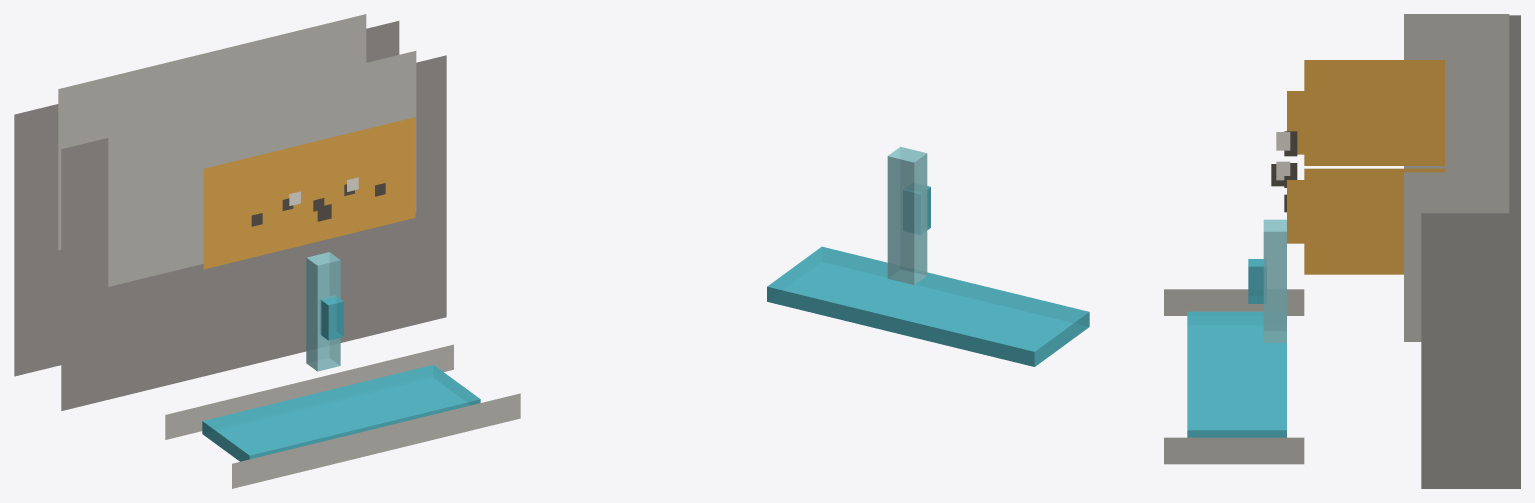
File: voxel-jinan-tiger-spring.gltf
3 views of the same model, side by side, from view 1: azimuth 30°, elevation 25°; view 2: azimuth 150°, elevation 25°; view 3: azimuth 270°, elevation 25° (orthographic). The views are drawn at different scales.
Bounding box in the file's own units: 4 × 2.8 × 3.05.
